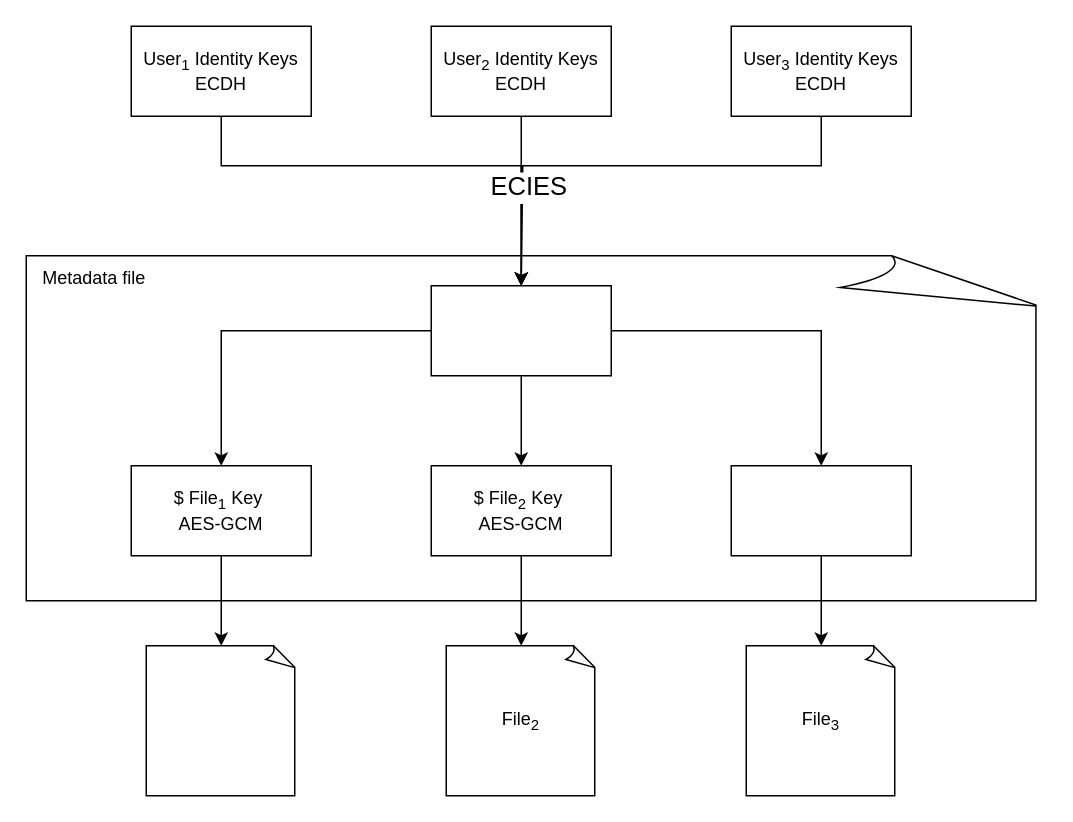
Image size: 1073x822. Some labels were removed from this diagram. The box of each missing label's shape, as (x1, y1, x2, y2) in pixels:
$ File 3 Key AES-GCM: (730, 464, 911, 556)
$ Folder Key AES-GCM: (430, 284, 611, 376)
File 1: (145, 644, 296, 796)
